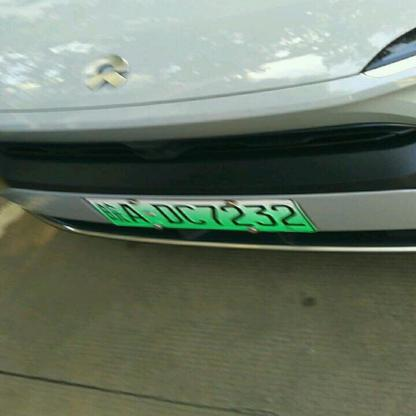lp: (84, 198, 315, 230)
